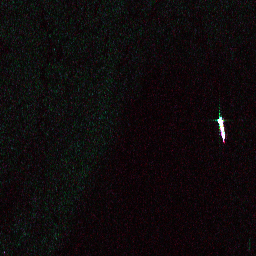ship: (215, 115, 227, 141)
